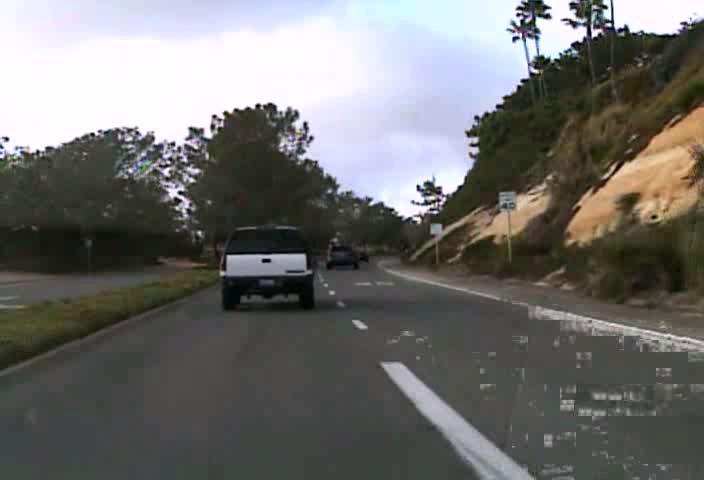speedLimitUrdbl: (497, 190, 517, 212)
